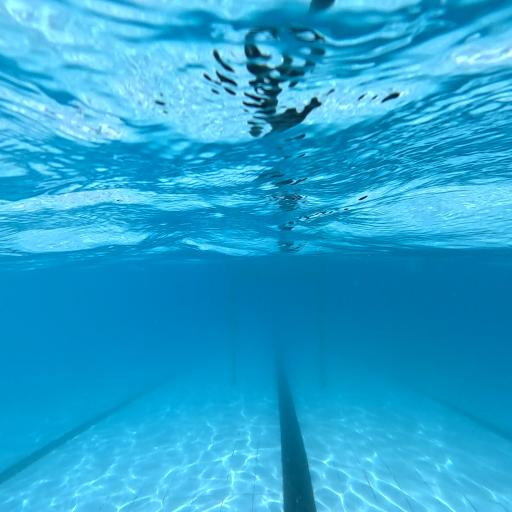gate: (231, 276, 326, 387)
